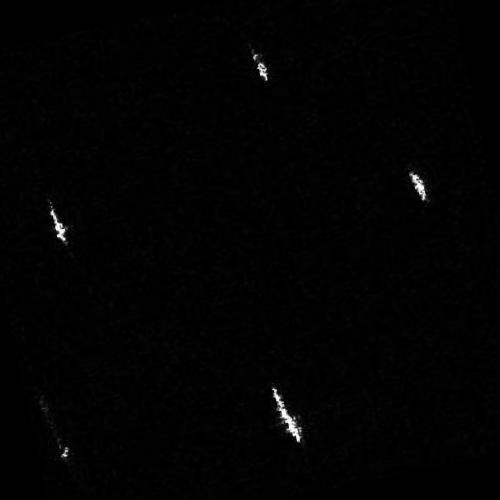ship: (32, 391, 72, 464), (268, 383, 304, 444), (46, 203, 68, 246), (404, 168, 426, 202), (250, 50, 268, 81)
